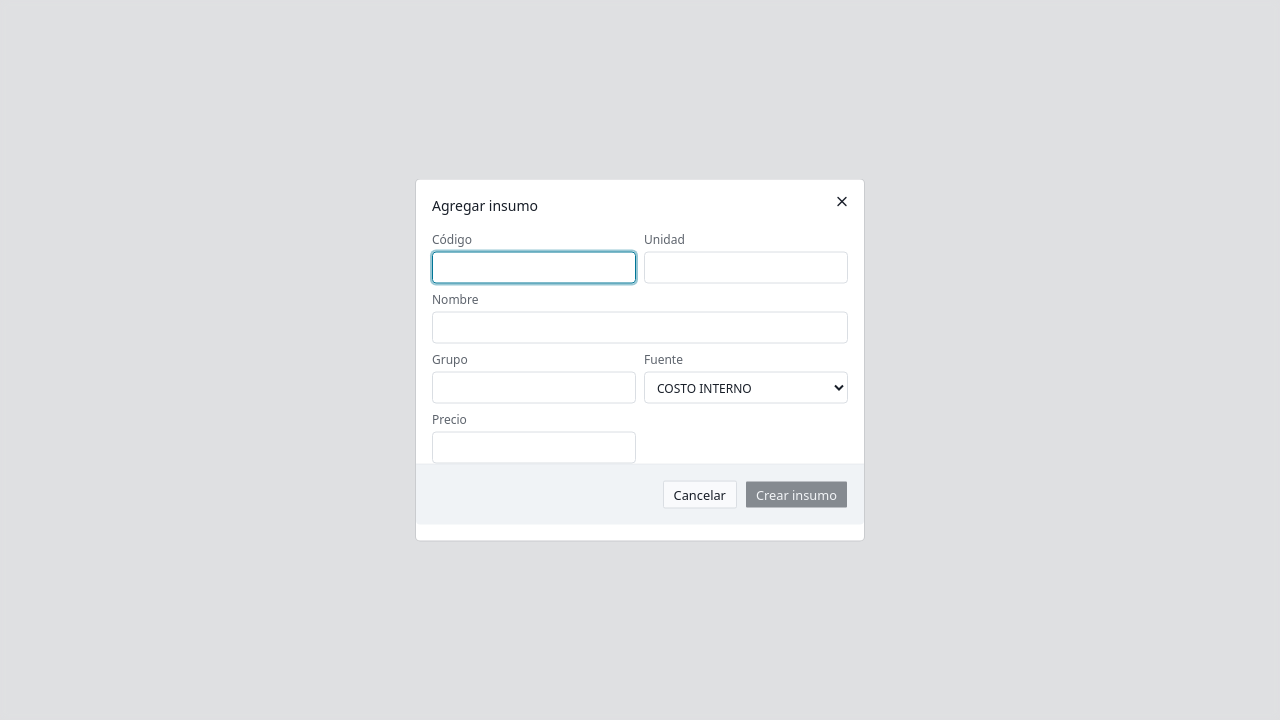
Test: DialogoAgregarInsumo › con un conflicto de código, el motivo aparece y bloquea Crear insumo
The image size is (1280, 720).
Type "C1" into the field labelled "Código".
click(534, 268); type("C1")  # box [432,252,636,284]
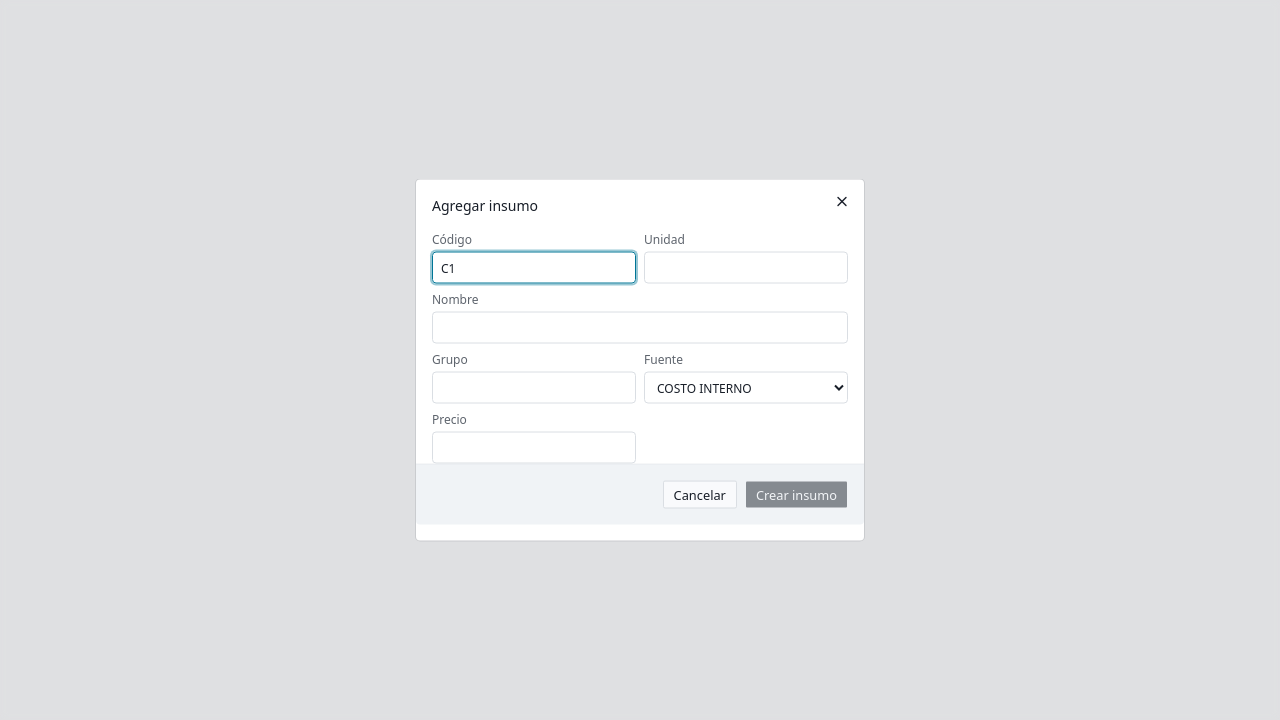
Type "CEMENTO GRIS" into the field labelled "Nombre".
click(640, 328); type("CEMENTO GRIS")  # box [432,312,848,344]
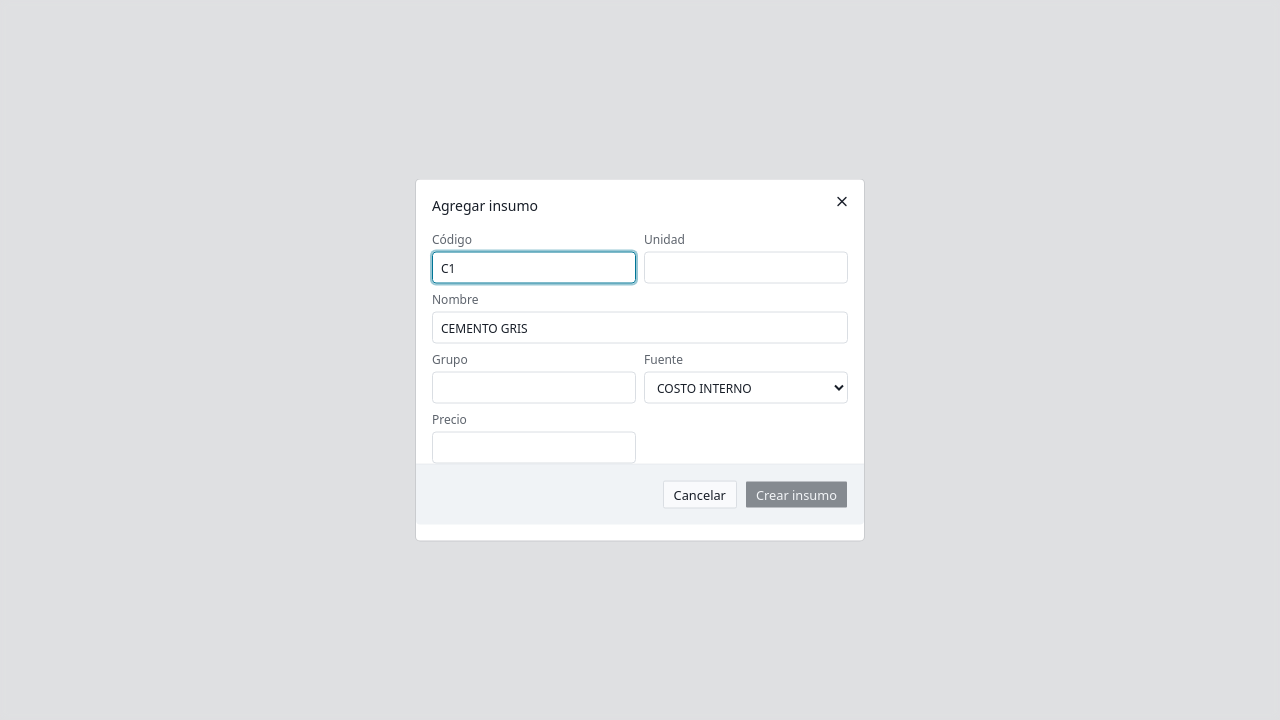
Type "KG" into the field labelled "Unidad".
click(746, 268); type("KG")  # box [644,252,848,284]
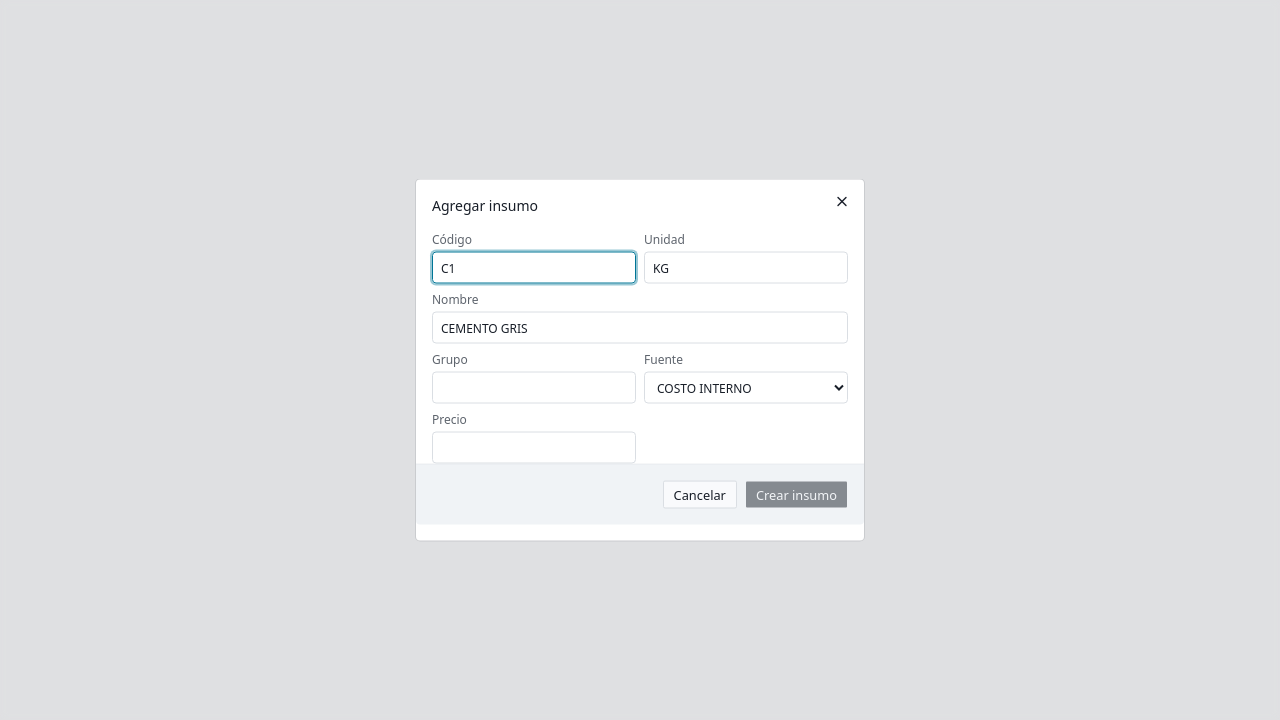
Type "MAT" into the field labelled "Grupo".
click(534, 388); type("MAT")  # box [432,372,636,404]
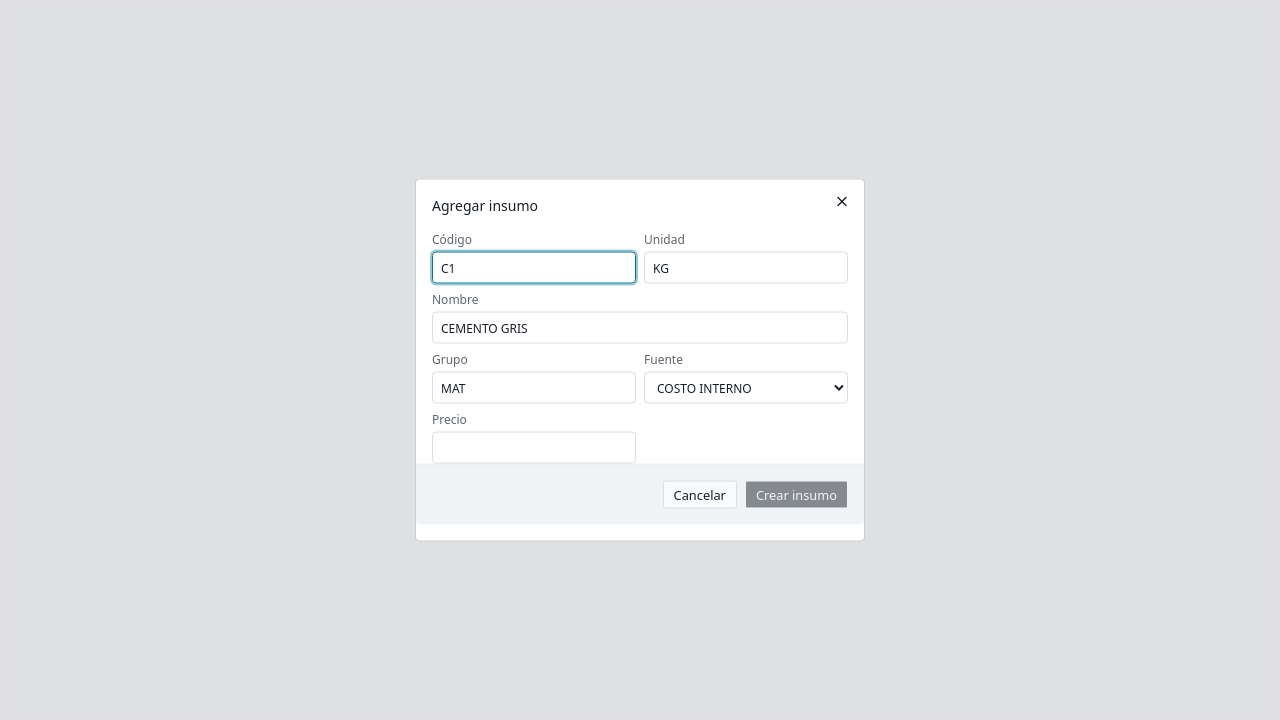
Select "PRECIO IDU" in the dropdown labelled "Fuente" at (746, 388), box [644,372,848,404]
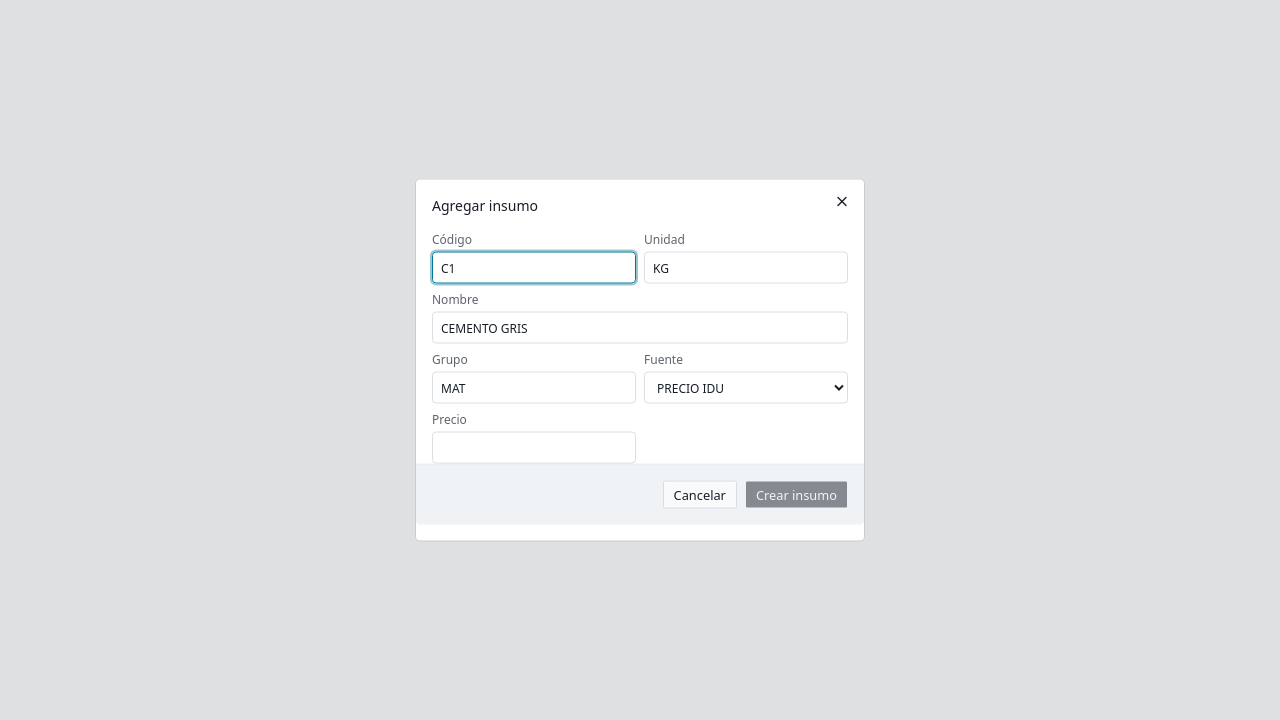
Type "100" into the number field labelled "Precio".
click(534, 448); type("100")  # box [432,432,636,464]
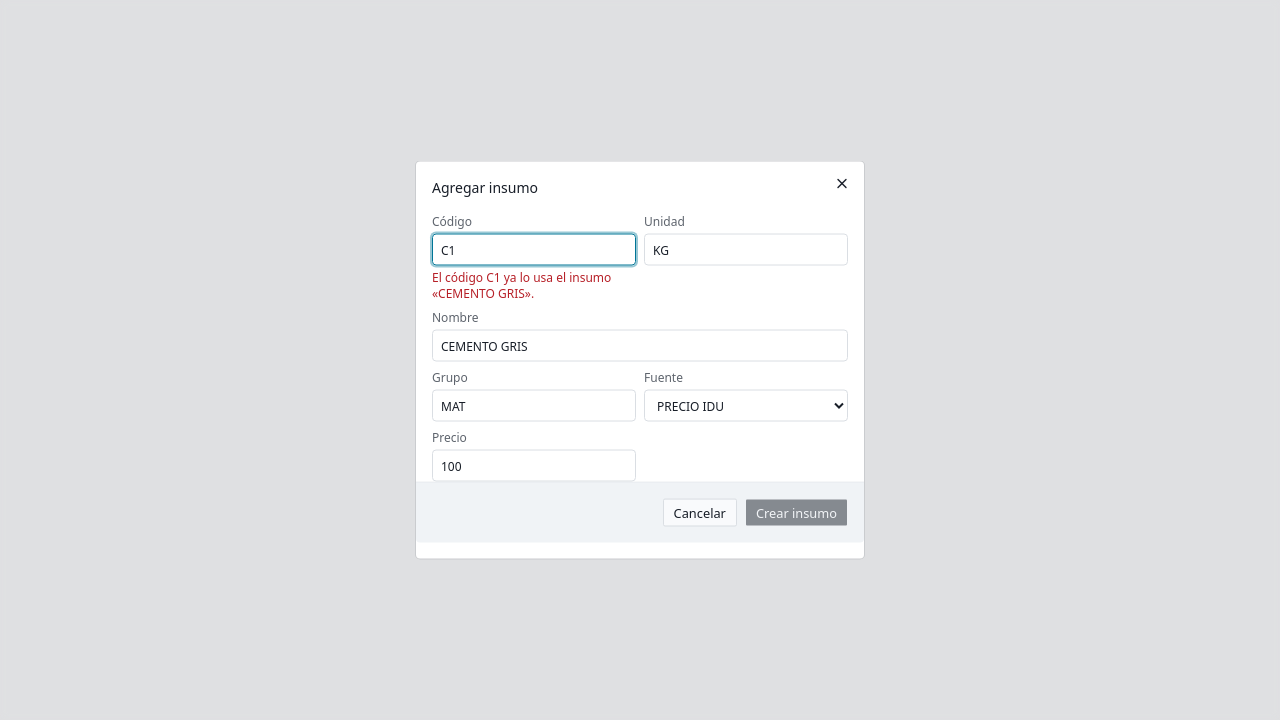
Expected: the button "Crear insumo" is disabled, [745,498,848,526]
Result: the text "El código C1 ya lo usa el insumo «CEMENTO GRIS»." is shown at [432,270,636,302]
